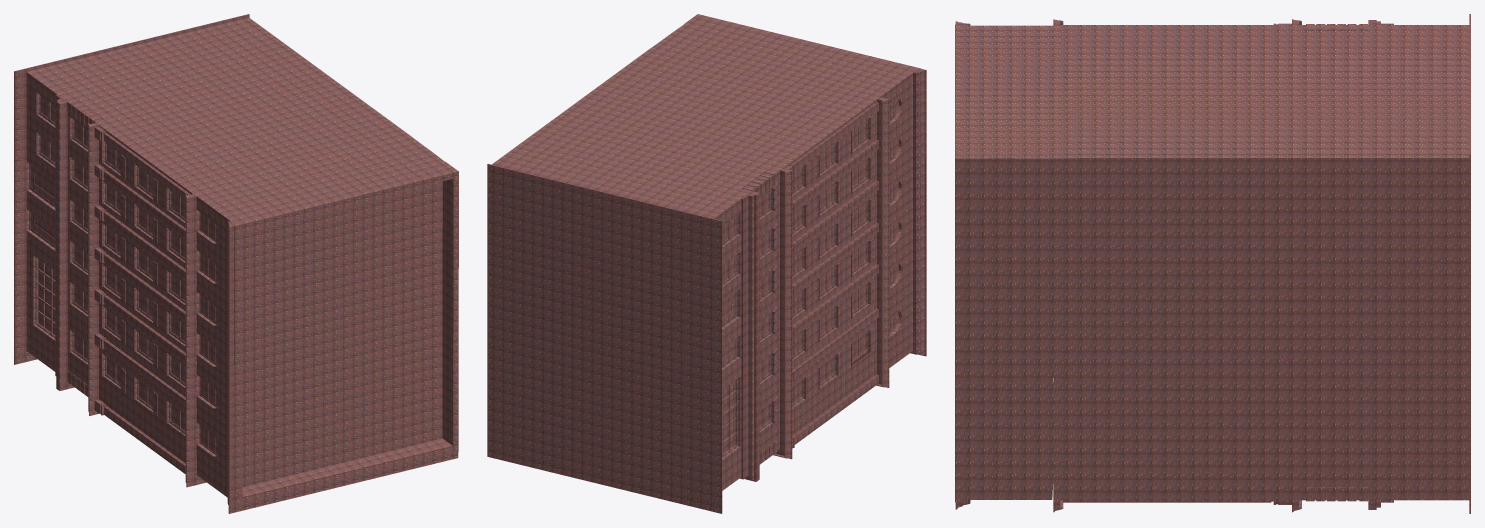
Rendered from tall_textured.obj.
The picture shows the model from 3 angles, left to right: view 1: azimuth 30°, elevation 25°; view 2: azimuth 150°, elevation 25°; view 3: azimuth 270°, elevation 25°; orthographic projection. The views are drawn at different scales.
Visible parts, largest first — view 1: tall_textured; view 2: tall_textured; view 3: tall_textured.
Boxes of the visible parts, bbox=[...] form: tall_textured: bbox=[14, 14, 458, 513]; tall_textured: bbox=[487, 14, 926, 513]; tall_textured: bbox=[955, 14, 1470, 513].
Bounding box in the file's own units: 23.71 × 28.25 × 36.74.
1 material, 1 textured.
